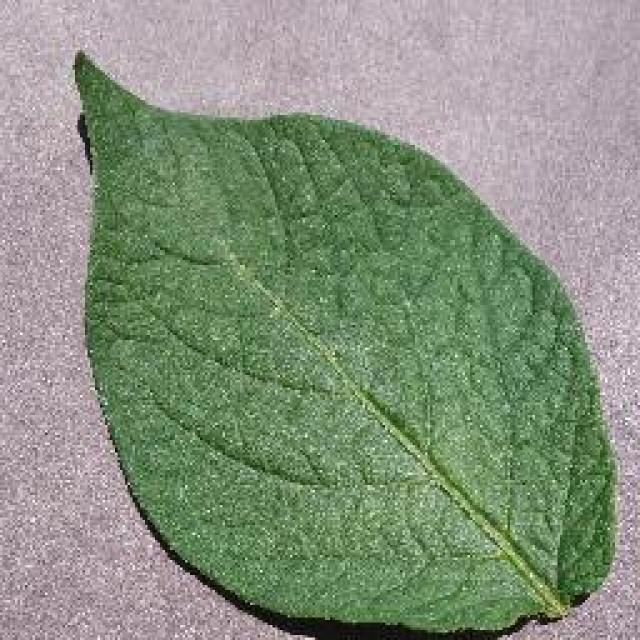Potato: (70, 48, 620, 638)
